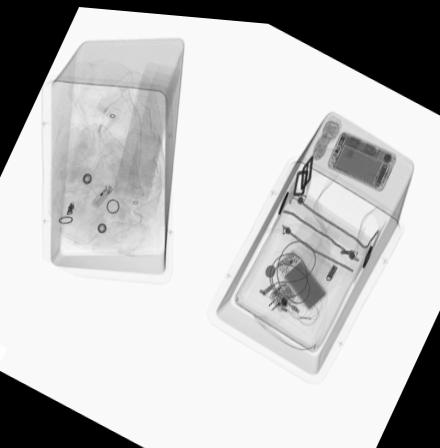Lighter: (85, 176, 118, 210)
